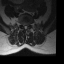CCS_severe_stenosis: (25, 23, 26, 30)
LFS_stenosis: (28, 22, 29, 27)
LLS_normal: (26, 24, 27, 28)
RFS_severe_stenosis: (22, 22, 23, 27)
RLS_normal: (23, 23, 25, 28)
